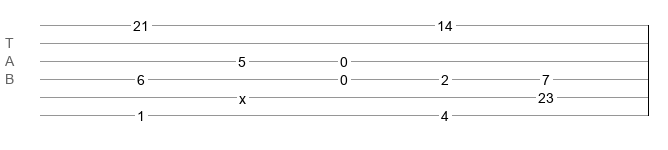0: (340, 72, 348, 82), (340, 54, 348, 64)
1: (137, 108, 145, 118)
14: (437, 18, 453, 28)
2: (441, 72, 449, 82)
21: (133, 18, 149, 28)
23: (538, 90, 554, 100)
4: (441, 108, 449, 118)
5: (238, 54, 246, 64)
6: (137, 72, 145, 82)
7: (542, 72, 550, 82)
x: (239, 91, 246, 99)
